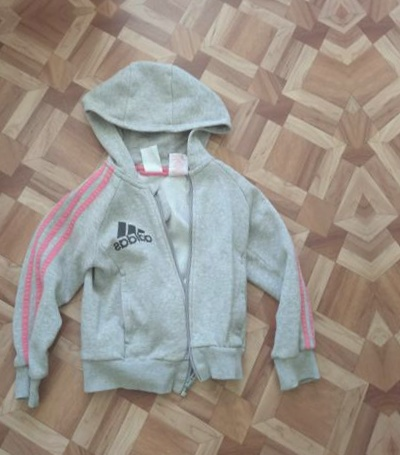Hoodie: (0, 26, 352, 435), (378, 0, 400, 385)
